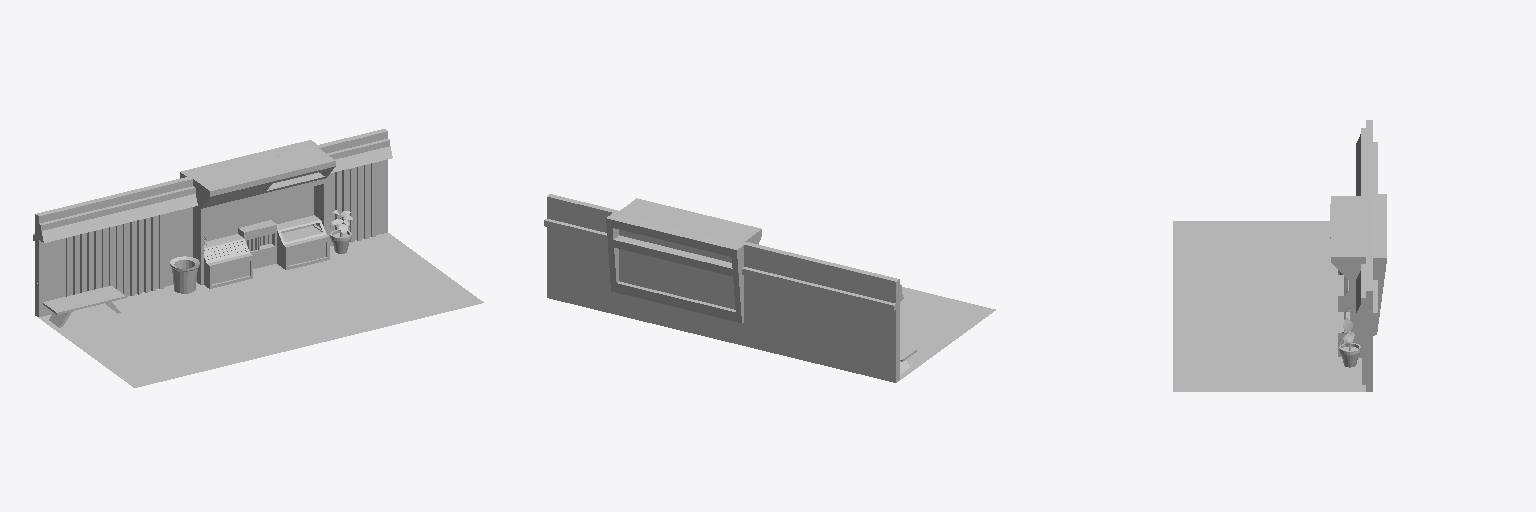
Rendered from background model.obj.
The picture shows the model from 3 angles: view 1: azimuth 30°, elevation 25°; view 2: azimuth 150°, elevation 25°; view 3: azimuth 270°, elevation 25°; orthographic projection.
Visible parts, largest first — view 1: pPlane1, pCube12, pCube6, pCube10, pCube11, pCube38, pCube1, pCube3, pCube37, pCylinder3, pCube4; view 2: pCube10, pPlane1, pCube6, pCube46, pCube12; view 3: pPlane1, pCube6, pCube10, pCube11, pCube12.
Boxes of the visible parts, x1=… form: pPlane1: x1=38, y1=233, x2=483, y2=387; pCube12: x1=37, y1=130, x2=387, y2=316; pCube6: x1=193, y1=147, x2=335, y2=213; pCube10: x1=35, y1=129, x2=385, y2=315; pCube11: x1=39, y1=139, x2=392, y2=242; pCube38: x1=277, y1=215, x2=329, y2=269; pCube1: x1=204, y1=234, x2=252, y2=288; pCube3: x1=238, y1=220, x2=276, y2=268; pCube37: x1=43, y1=286, x2=125, y2=314; pCylinder3: x1=170, y1=256, x2=199, y2=293; pCube4: x1=193, y1=208, x2=203, y2=284; pCube10: x1=547, y1=195, x2=898, y2=382; pPlane1: x1=899, y1=287, x2=995, y2=380; pCube6: x1=620, y1=198, x2=761, y2=244; pCube46: x1=544, y1=219, x2=895, y2=311; pCube12: x1=549, y1=194, x2=899, y2=380; pPlane1: x1=1173, y1=221, x2=1365, y2=391; pCube6: x1=1331, y1=196, x2=1368, y2=285; pCube10: x1=1369, y1=120, x2=1386, y2=391; pCube11: x1=1356, y1=128, x2=1369, y2=313; pCube12: x1=1366, y1=120, x2=1368, y2=391.
Bounding box in the file's own units: 24 × 6.64 × 12.74.